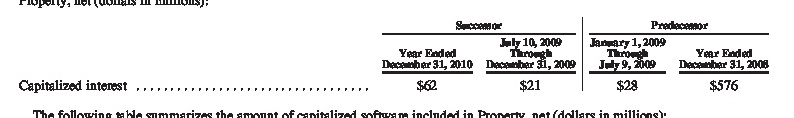table: (0, 0, 794, 118)
